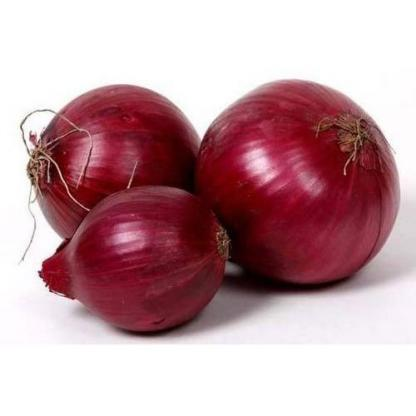onion: (31, 183, 243, 338)
